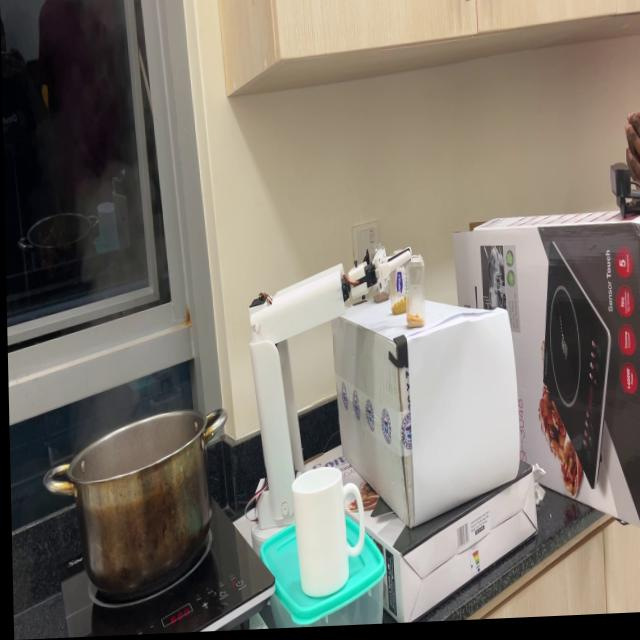cooking_pot: (41, 415, 248, 588)
curry_powder: (390, 299, 407, 320)
garlic_powder: (406, 316, 424, 334)
maggie_open: (370, 289, 386, 308)
